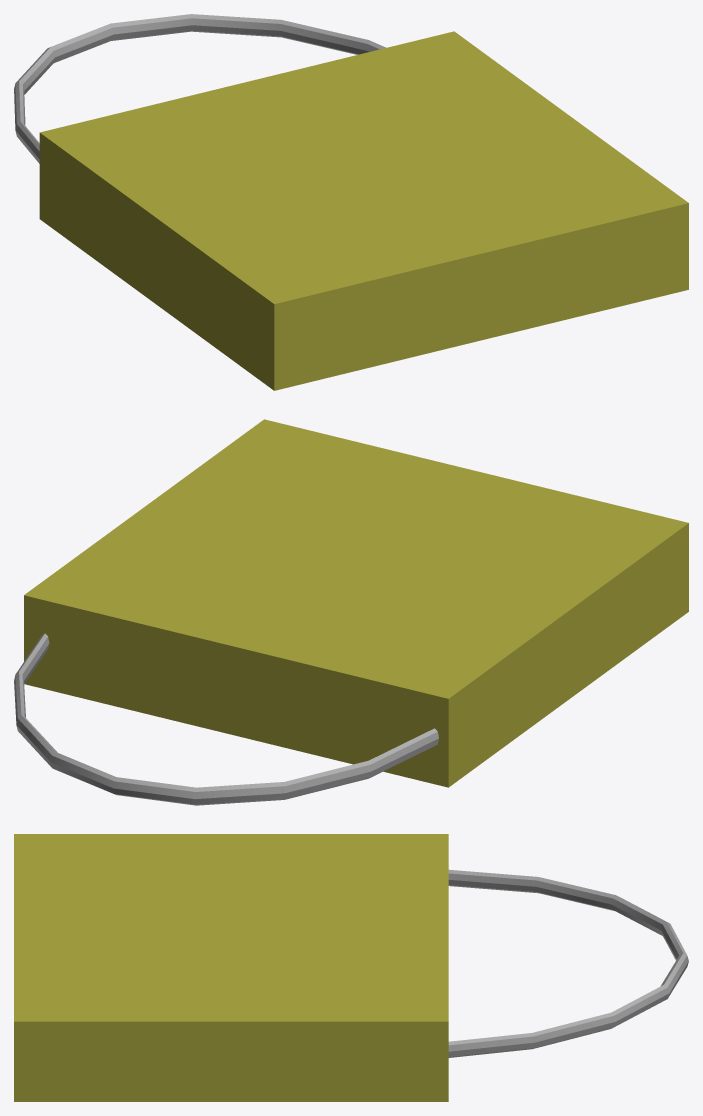
Rendered from cadeado.fbx.
3 views of the same model, one above another, from view 1: azimuth 30°, elevation 25°; view 2: azimuth 150°, elevation 25°; view 3: azimuth 270°, elevation 25° (orthographic). The views are drawn at different scales.
Parts seen in each view (by area): view 1: pCube7, pTorus1; view 2: pCube7, pTorus1; view 3: pCube7, pTorus1.
Boxes of the visible parts, left/top/right/bottom form: pCube7: left=39, top=31, right=688, bottom=390; pTorus1: left=14, top=14, right=386, bottom=163; pCube7: left=24, top=419, right=688, bottom=787; pTorus1: left=14, top=633, right=438, bottom=805; pCube7: left=14, top=834, right=448, bottom=1101; pTorus1: left=448, top=869, right=688, bottom=1057.
Bounding box in the file's own units: 0.1937 × 0.0387 × 0.2948.
